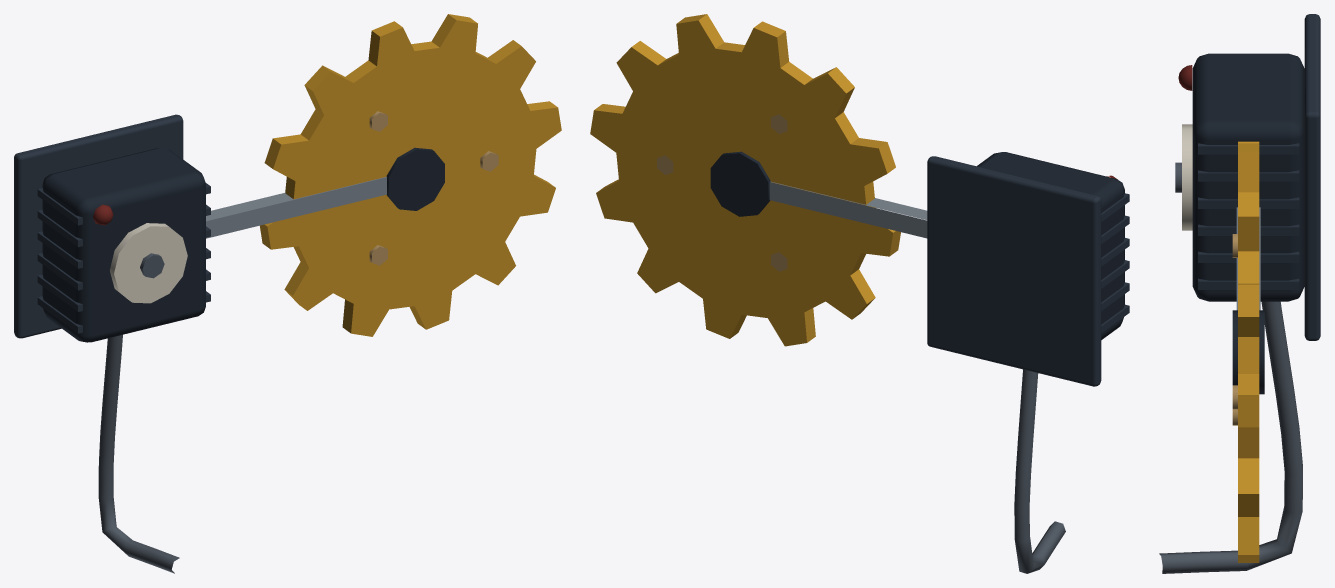
The model's file is motor_engrenagem.glb.
3 views of the same model, side by side, from view 1: azimuth 30°, elevation 25°; view 2: azimuth 150°, elevation 25°; view 3: azimuth 270°, elevation 25° (orthographic). The views are drawn at different scales.
Parts seen in each view (by area): view 1: engrenagem_malha, motor_malha; view 2: engrenagem_malha, motor_malha; view 3: motor_malha, engrenagem_malha, luz_apagada_malha.
Boxes of the visible parts, left/top/right/bottom form: engrenagem_malha: left=260, top=14, right=561, bottom=336; motor_malha: left=14, top=114, right=386, bottom=573; engrenagem_malha: left=590, top=14, right=900, bottom=346; motor_malha: left=769, top=152, right=1129, bottom=573; motor_malha: left=1159, top=14, right=1320, bottom=573; engrenagem_malha: left=1232, top=141, right=1264, bottom=562; luz_apagada_malha: left=1178, top=65, right=1192, bottom=90.
Bounding box in the file's own units: 2.8 × 2.41 × 0.6084.
